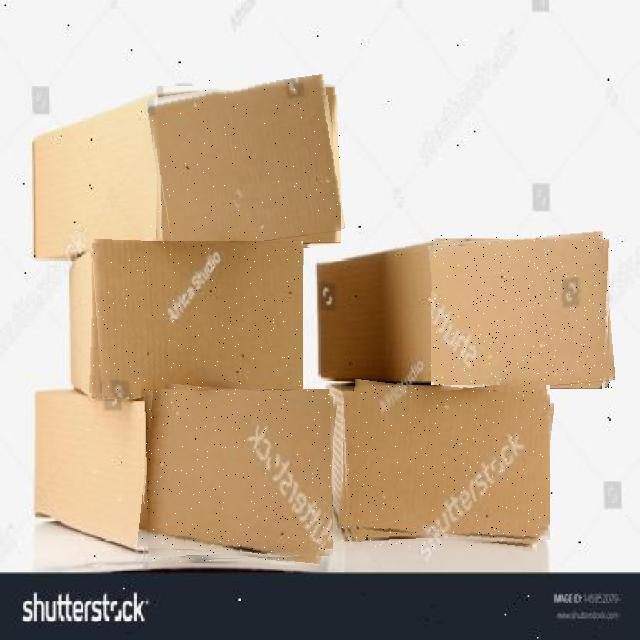BoxFace: (341, 385, 550, 547), (91, 241, 303, 399), (141, 389, 333, 562), (151, 80, 341, 248), (431, 235, 612, 391)
